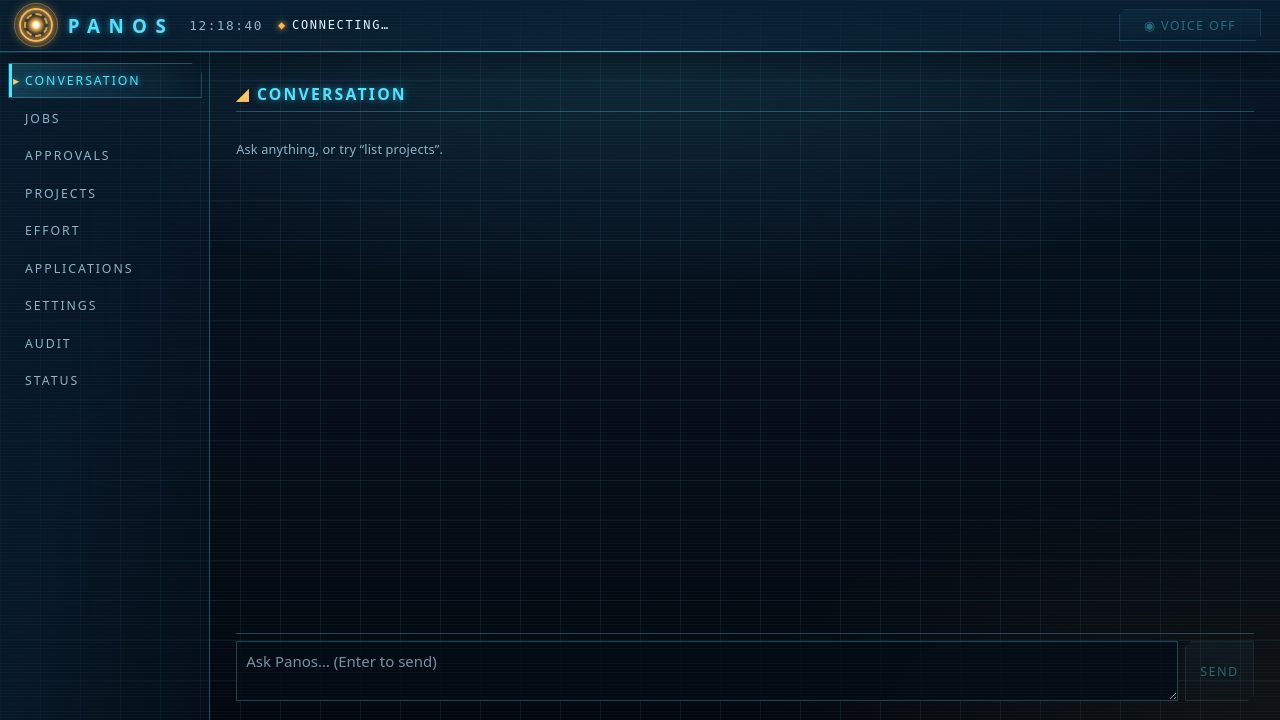
Scenario: [FR-002] conversation › explains a privacy refusal and shows what voice heard
Type "secret" into the text box labelled "Ask Panos… (Enter to send)" at (707, 671), box [236, 641, 1178, 701]
Then press Enter
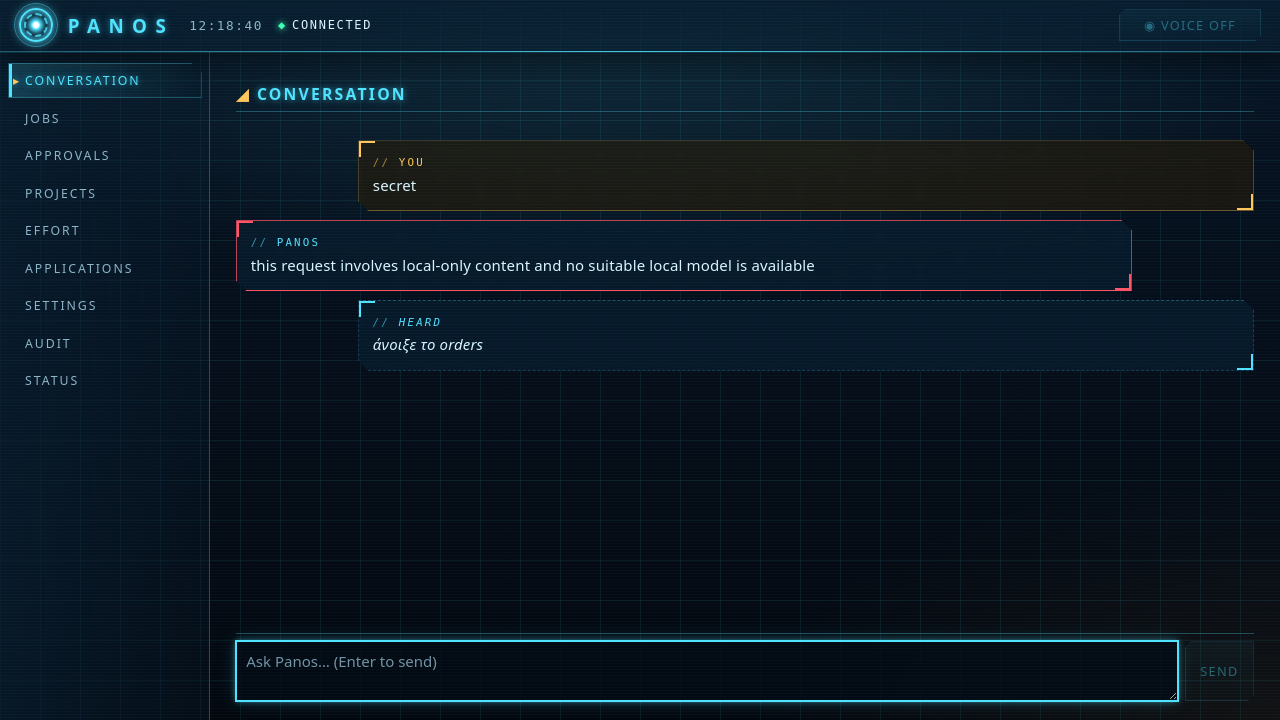
Expected: the text "local-only content" is shown, [251, 255, 815, 275]
Expected: the text "άνοιξε το orders" is shown, [373, 334, 483, 354]
